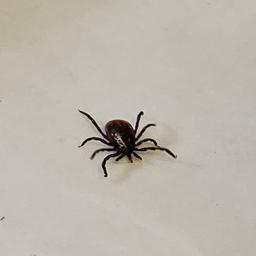Ixodes scapularis: (77, 108, 179, 177)
